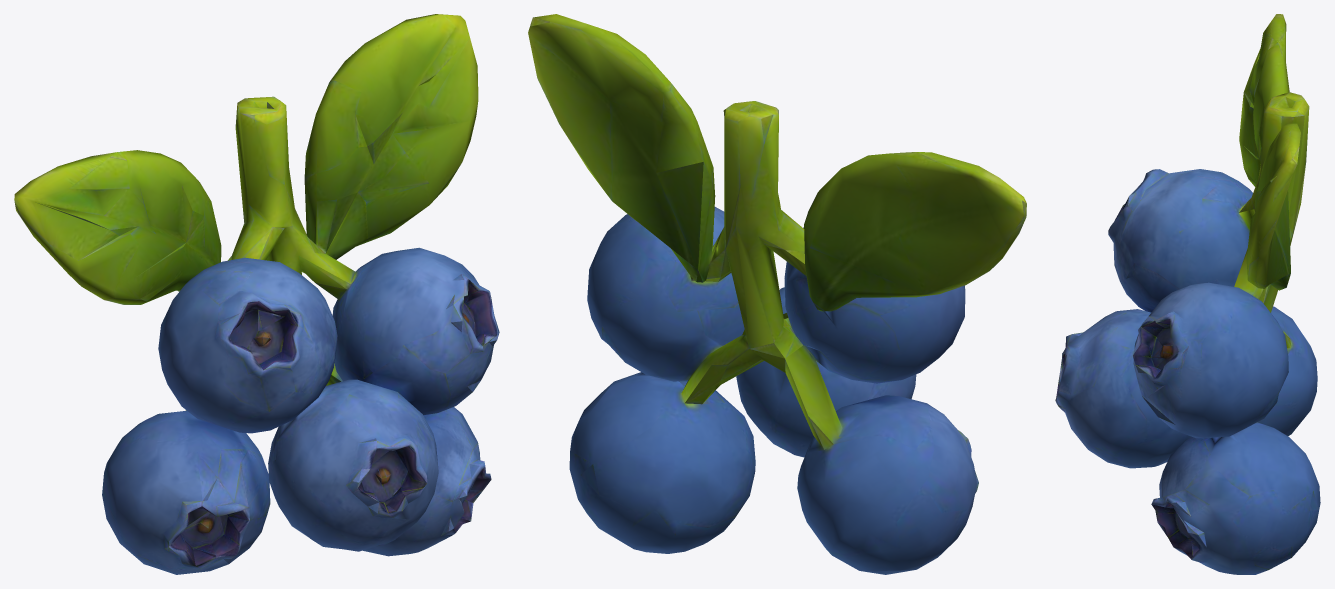
Rendered from blueberry.gltf.
3 renders of one model, left to right at view 1: azimuth 30°, elevation 25°; view 2: azimuth 150°, elevation 25°; view 3: azimuth 270°, elevation 25°, orthographic. The views are drawn at different scales.
Parts seen in each view (by area): view 1: blueberry; view 2: blueberry; view 3: blueberry.
Boxes of the visible parts, x1,y1,x2,y2 form: blueberry: (14,14,499,574); blueberry: (528,14,1026,574); blueberry: (1055,14,1320,574).
Size of the model in its own units: 0.775 by 0.8 by 0.4185.
1 material, 1 textured.
